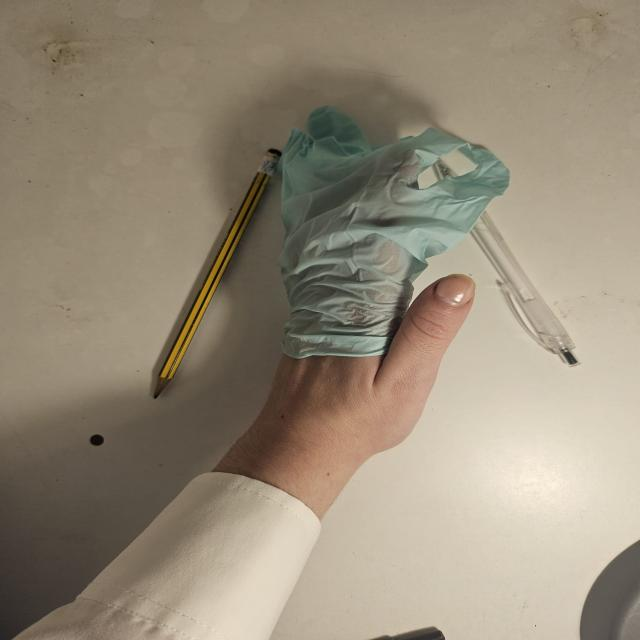glove_partial: (273, 104, 512, 458)
